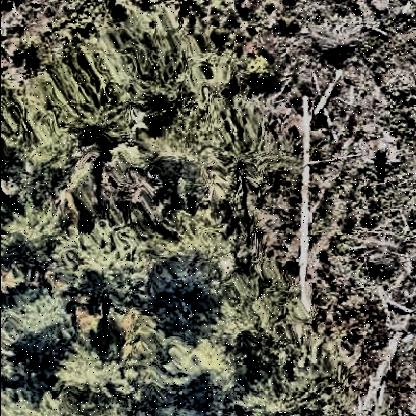tree-top: (147, 232, 229, 327), (54, 226, 142, 312), (19, 300, 70, 357), (245, 55, 271, 83)
